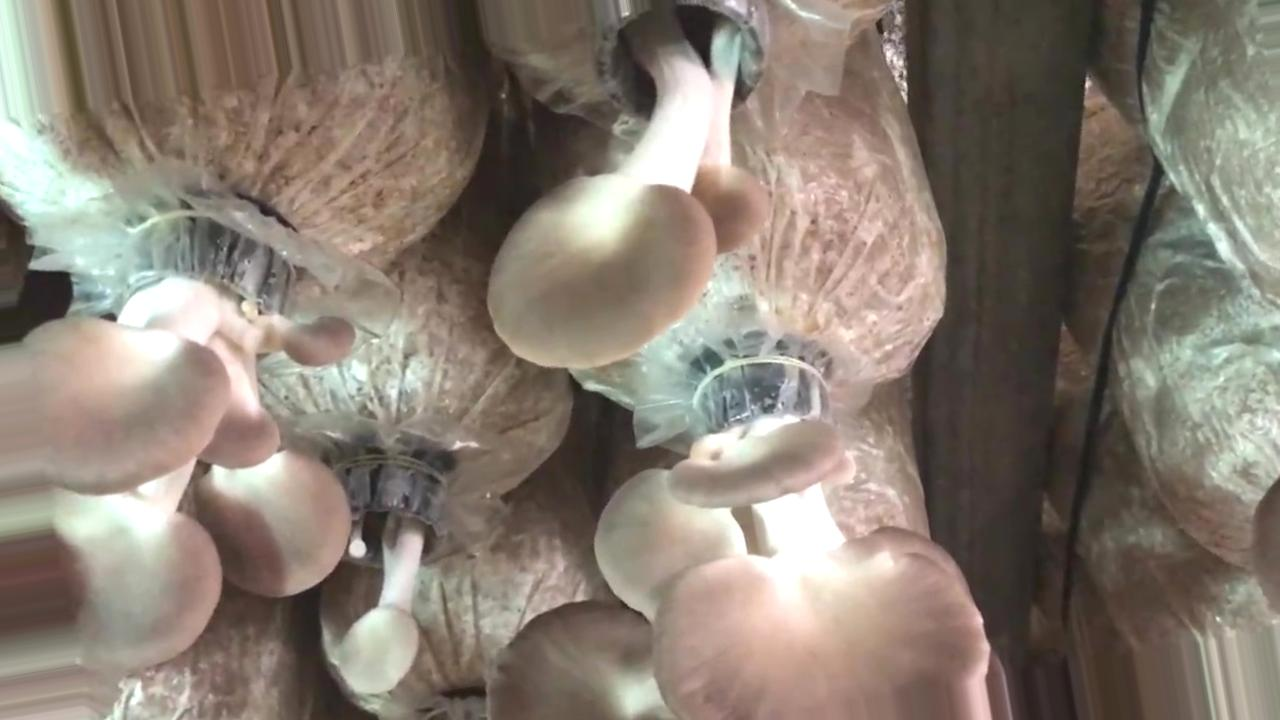nam: (495, 360, 988, 720), (1, 205, 355, 669), (488, 1, 769, 367), (343, 453, 466, 691)
